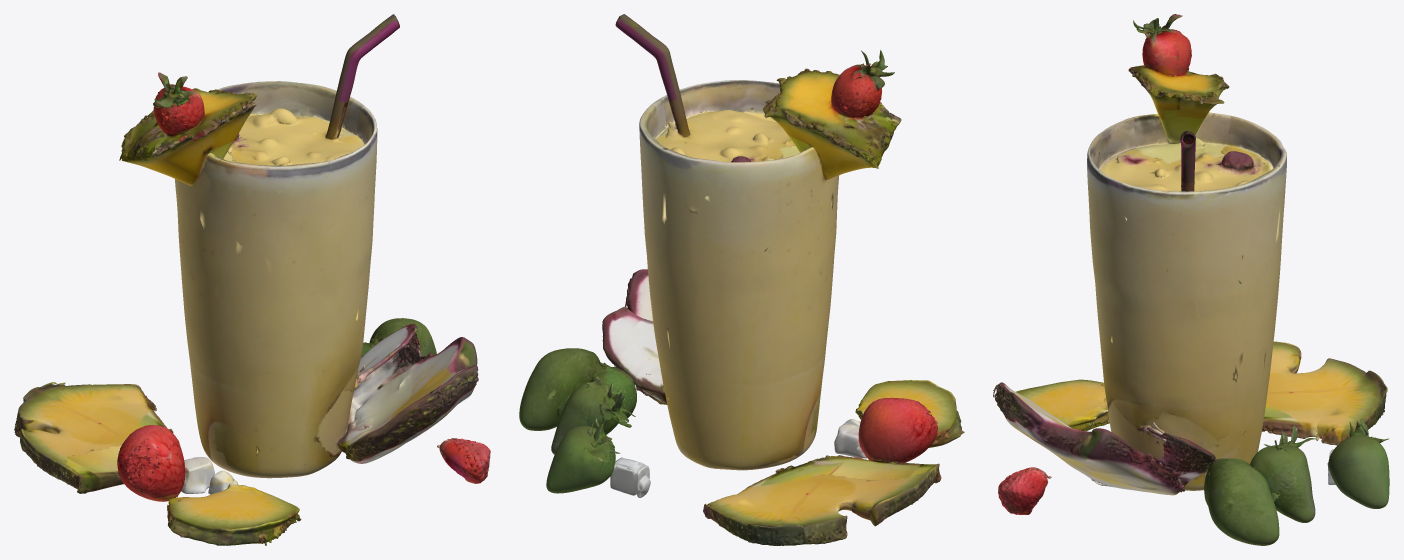
Rendered from Tropical_Fruit_Smoothie.glb.
3 views of the same model, side by side, from view 1: azimuth 30°, elevation 25°; view 2: azimuth 150°, elevation 25°; view 3: azimuth 270°, elevation 25° (orthographic). The views are drawn at different scales.
Bounding box in the file's own units: 1.95 × 1.96 × 1.76.
1 material, 1 textured.
